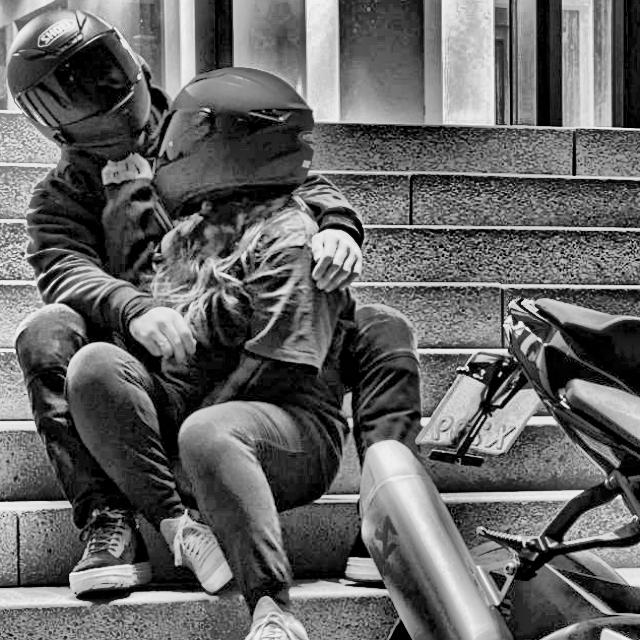Helmet: (150, 61, 318, 225), (1, 2, 155, 151)
